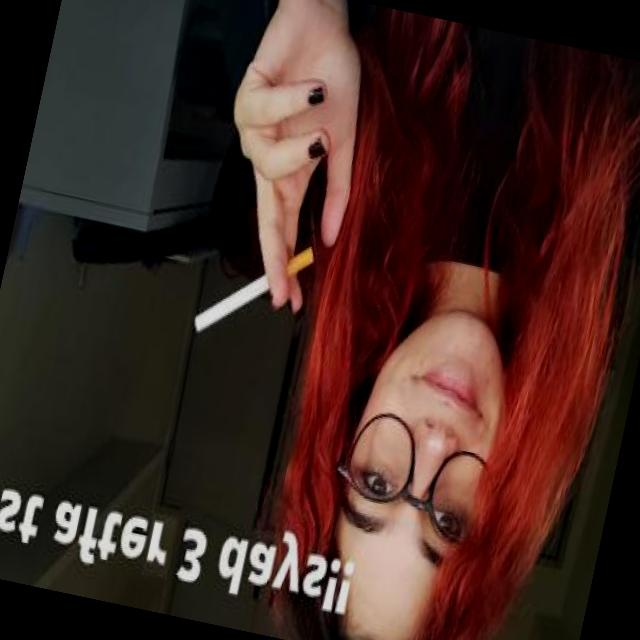cigarette: (181, 210, 324, 369)
